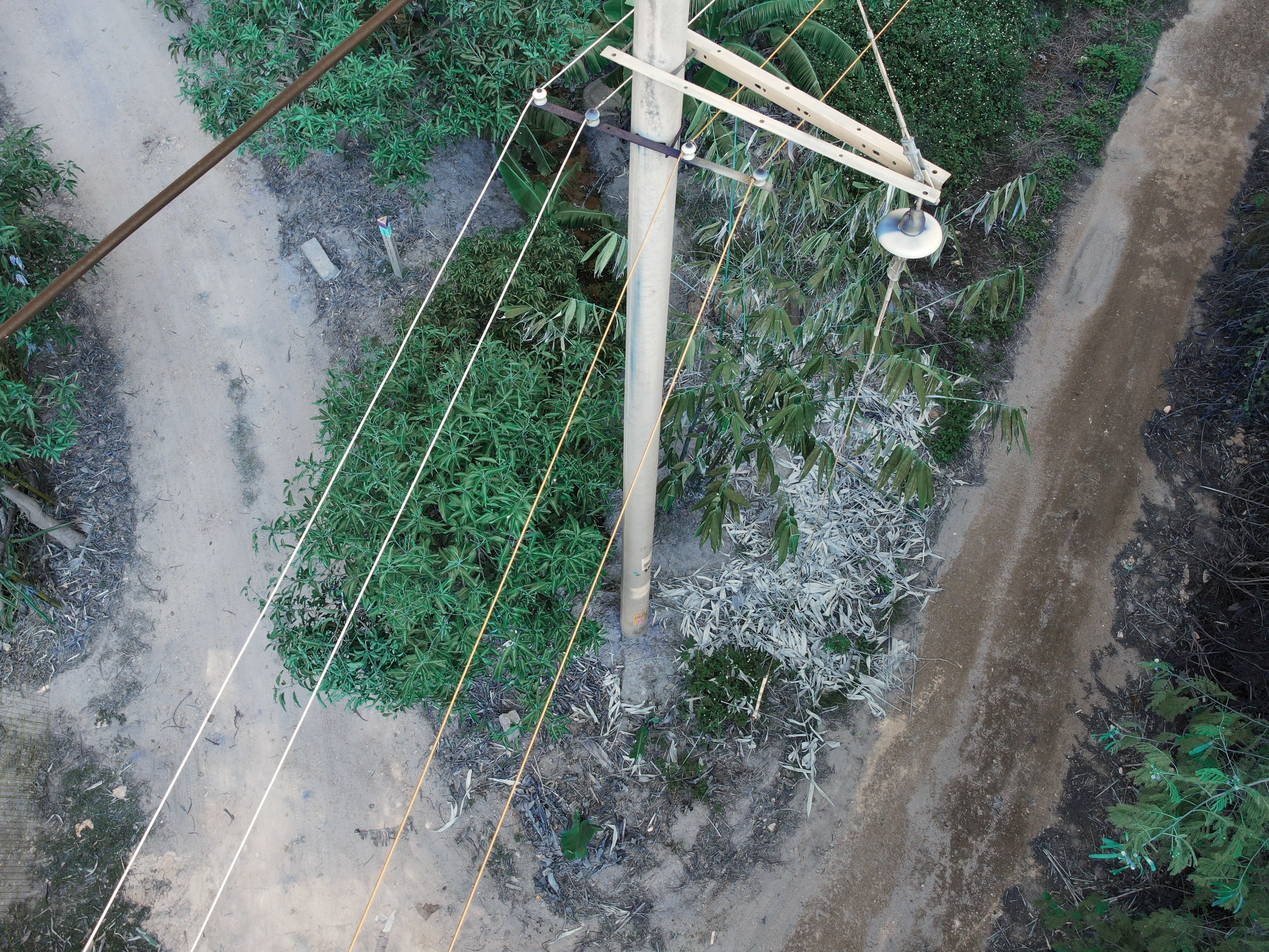severe_soiling_no_discharge_whole: (875, 202, 945, 258), (582, 106, 603, 127), (750, 166, 769, 188)
